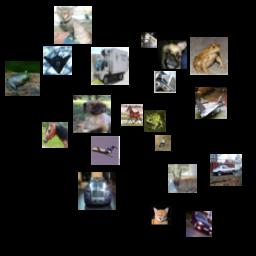airplane: (195, 87, 227, 119), (91, 136, 120, 165), (43, 46, 72, 75)
automobile: (78, 172, 116, 210), (210, 154, 242, 186), (186, 211, 212, 237)
bird: (155, 135, 171, 151)
cat: (54, 6, 92, 44), (150, 204, 172, 226)
dog: (73, 95, 111, 133), (158, 40, 187, 69), (168, 164, 197, 193)
frog: (190, 37, 228, 75), (5, 61, 40, 96), (144, 110, 166, 132)
truck: (91, 47, 129, 85), (154, 71, 176, 93)
